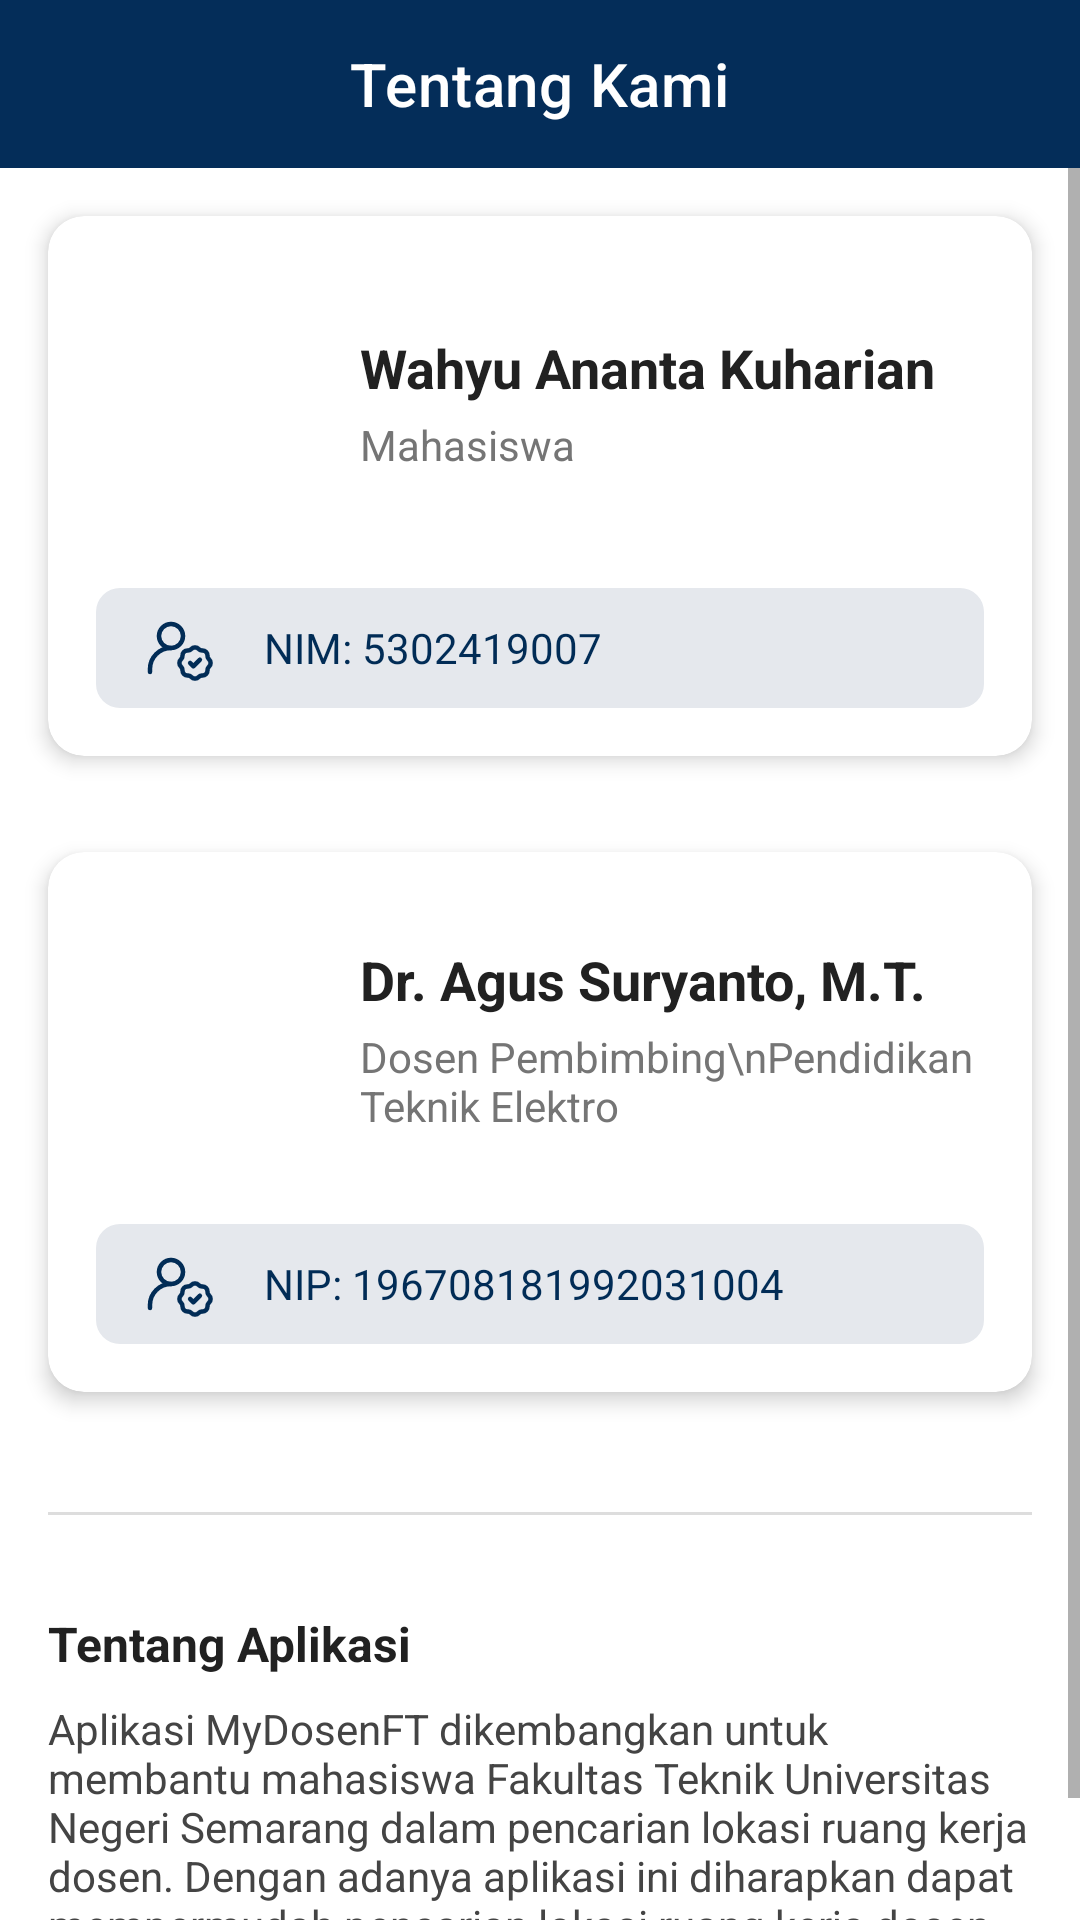

Where icons sit on this 1080×1920 app screen, as {"left": x1, "top": y1, "right": x2, "bottom": y2}:
verified: {"left": 147, "top": 621, "right": 213, "bottom": 681}, {"left": 147, "top": 1257, "right": 213, "bottom": 1317}
